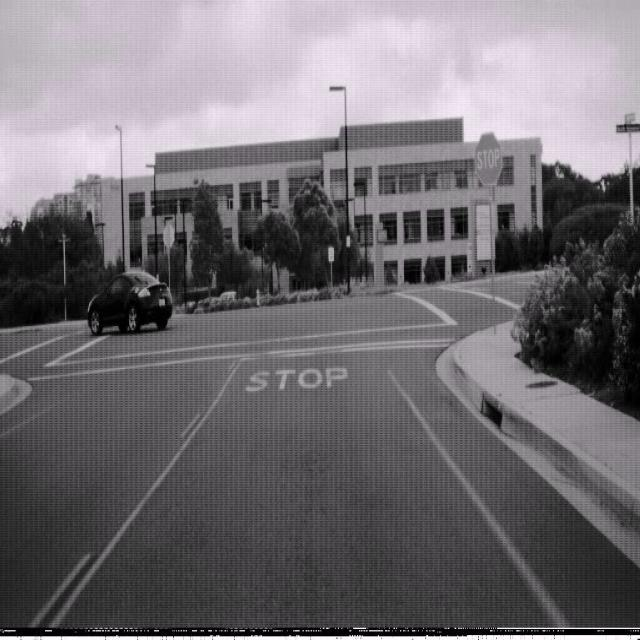stop_sign: (474, 130, 503, 188)
